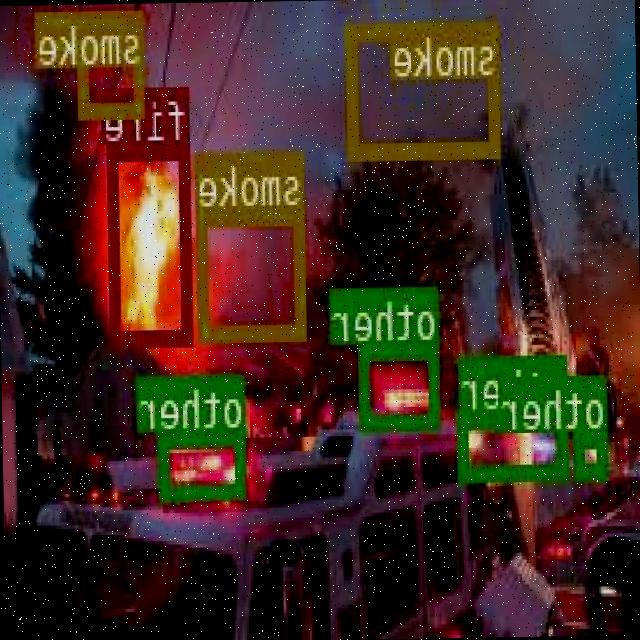fire: (108, 140, 194, 341)
smoke: (348, 19, 502, 154), (198, 205, 308, 338), (78, 10, 146, 114)
